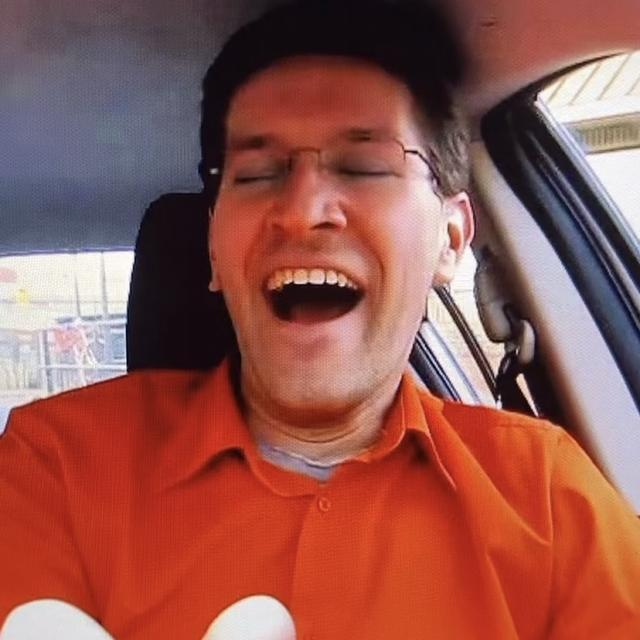open-mouth: (258, 249, 372, 349)
